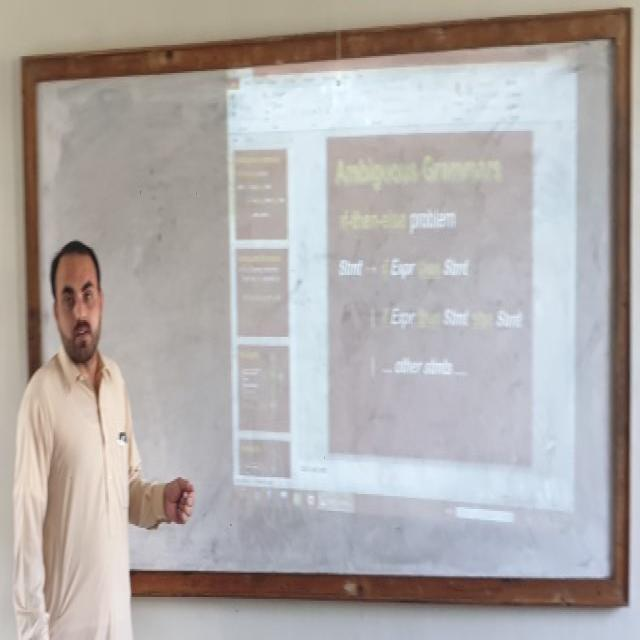Instructor: (14, 230, 136, 627)
Slide: (224, 35, 581, 537)
White-board: (27, 23, 623, 597)
